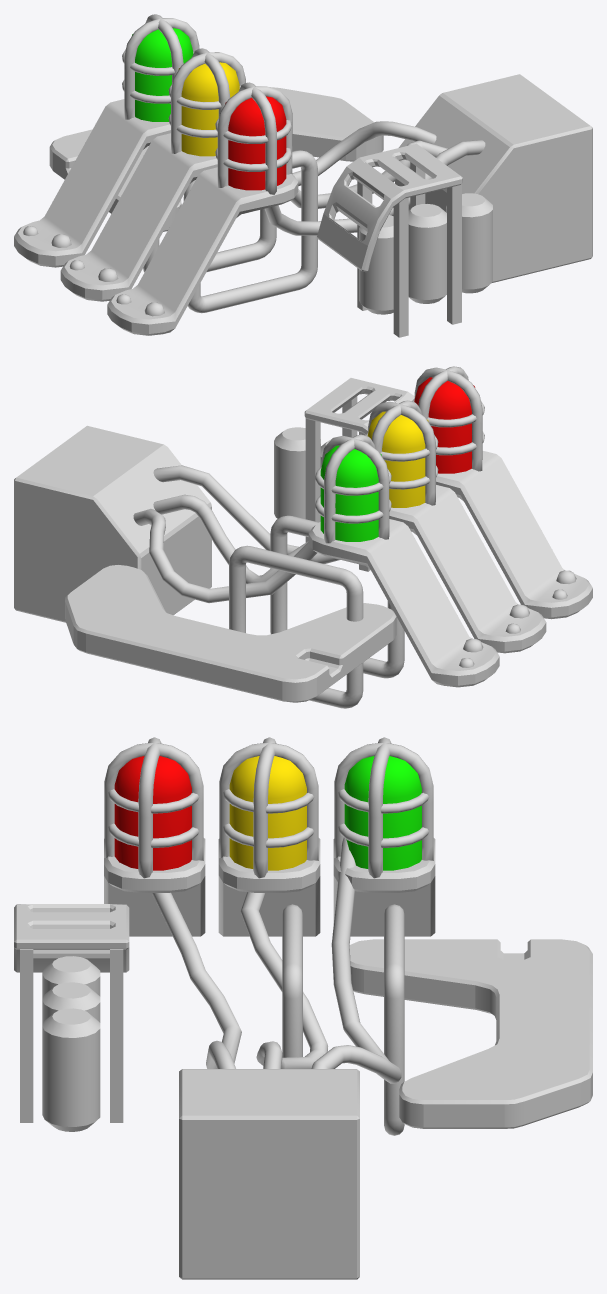
File: static.glb
3 views of the same model, one above another, from view 1: azimuth 30°, elevation 25°; view 2: azimuth 150°, elevation 25°; view 3: azimuth 270°, elevation 25° (orthographic). The views are drawn at different scales.
Parts seen in each view (by area): view 1: Cube_4, Cube, Cube_3, Cube_2, Boole, Boole_2, Sweep_7, Sweep_1, Cylinder_5, Cylinder, Cylinder_6, Cylinder_2 (+13 smaller); view 2: Cube_4, Boole_2, Cube_3, Cube, Cube_2, Sweep_7, Sweep_0, Cylinder_3, Sweep_1, Boole, Cylinder_2, Cylinder (+12 smaller); view 3: Cube_4, Boole_2, Sweep_7, Cylinder_6, Boole, Cube_2, Cube, Cube_3, Cylinder, Cylinder_2, Cylinder_3, Cube_2_2 (+16 smaller).
Part boxes in pixels (x1,y1,x2,y2): Cube_4: (395,74,592,283); Cube: (107,167,298,335); Cube_3: (14,99,170,267); Cube_2: (60,133,217,301); Boole: (317,143,462,272); Boole_2: (49,87,383,231); Sweep_7: (169,103,485,235); Sweep_1: (183,150,317,313); Cylinder_5: (408,204,446,303); Cylinder: (225,96,286,190); Cylinder_6: (446,193,492,293); Cylinder_2: (178,62,239,156); Cube_4: (14,425,211,622); Boole_2: (65,565,396,702); Cube_3: (308,519,499,687); Cube: (436,451,592,619); Cube_2: (389,485,546,653); Sweep_7: (133,465,339,603); Sweep_0: (229,545,363,708); Cylinder_3: (320,445,381,541); Sweep_1: (270,515,404,678); Boole: (304,378,414,434); Cylinder_2: (367,411,428,507); Cylinder: (414,377,475,473); Cube_4: (179,1069,359,1279); Boole_2: (349,939,592,1128); Sweep_7: (152,837,401,1083); Cylinder_6: (42,1008,100,1131); Boole: (14,904,129,972); Cube_2: (218,838,320,936); Cube: (104,838,205,936); Cube_3: (333,838,435,936); Cylinder: (114,756,191,870); Cylinder_2: (229,756,306,870); Cylinder_3: (344,756,421,870); Cube_2_2: (20,949,123,1122).
Size of the model in its own units: 2.19 by 1.15 by 1.82.
Materials: 3 (3 with a texture image).
